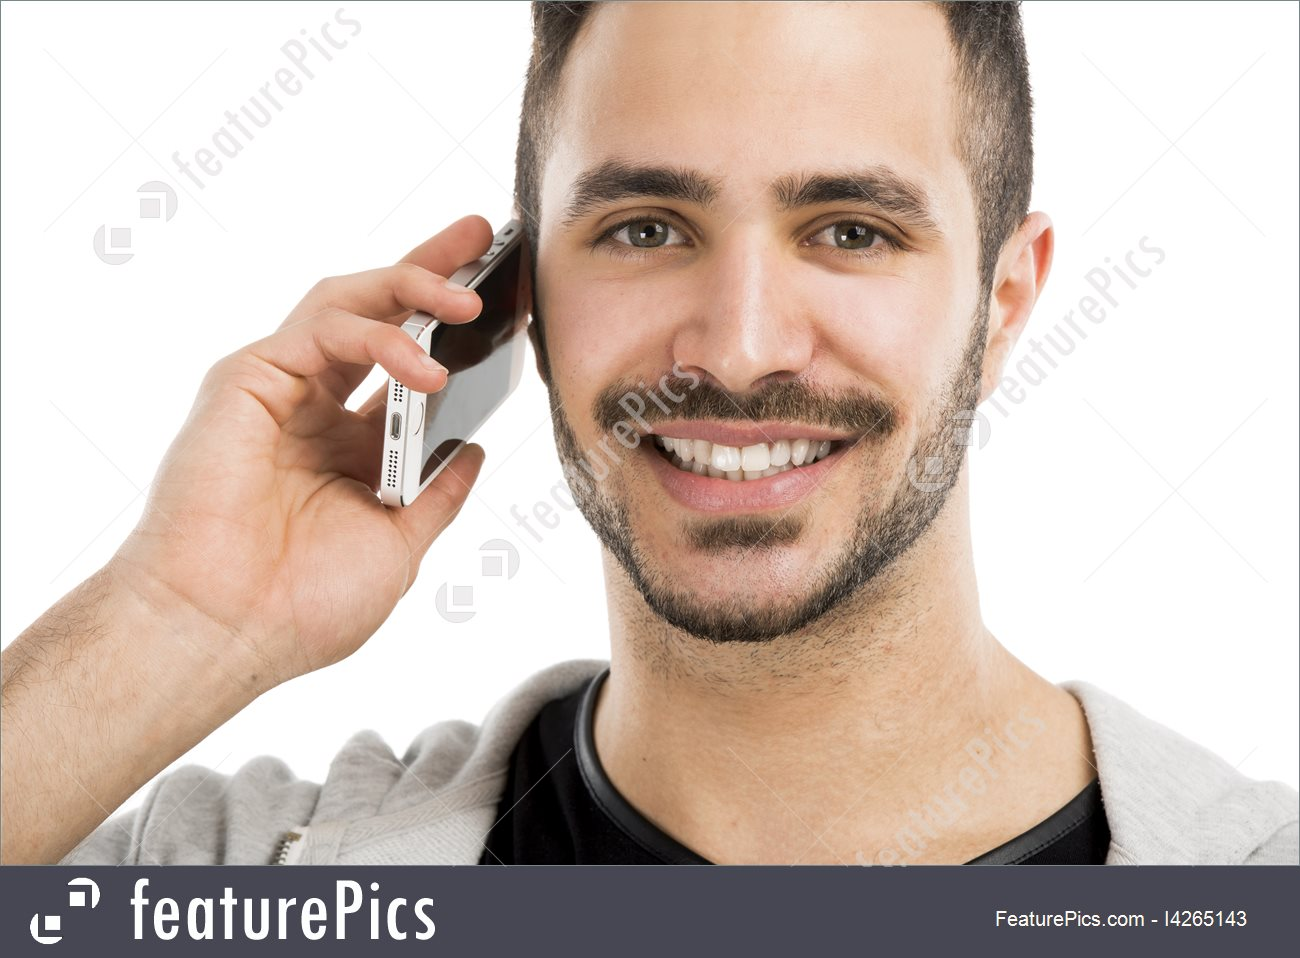phone: (380, 182, 530, 539)
talk: (124, 117, 982, 758)
